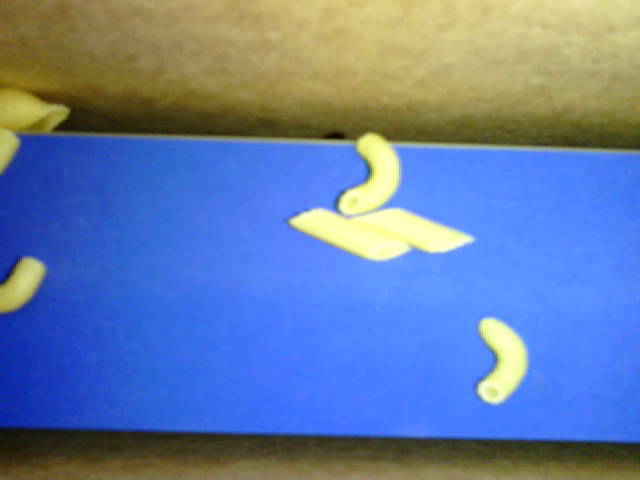elbow: (336, 131, 398, 216), (472, 312, 529, 404), (1, 254, 46, 306)
penne: (291, 207, 411, 264), (350, 206, 475, 257)
shell: (1, 84, 69, 134)
